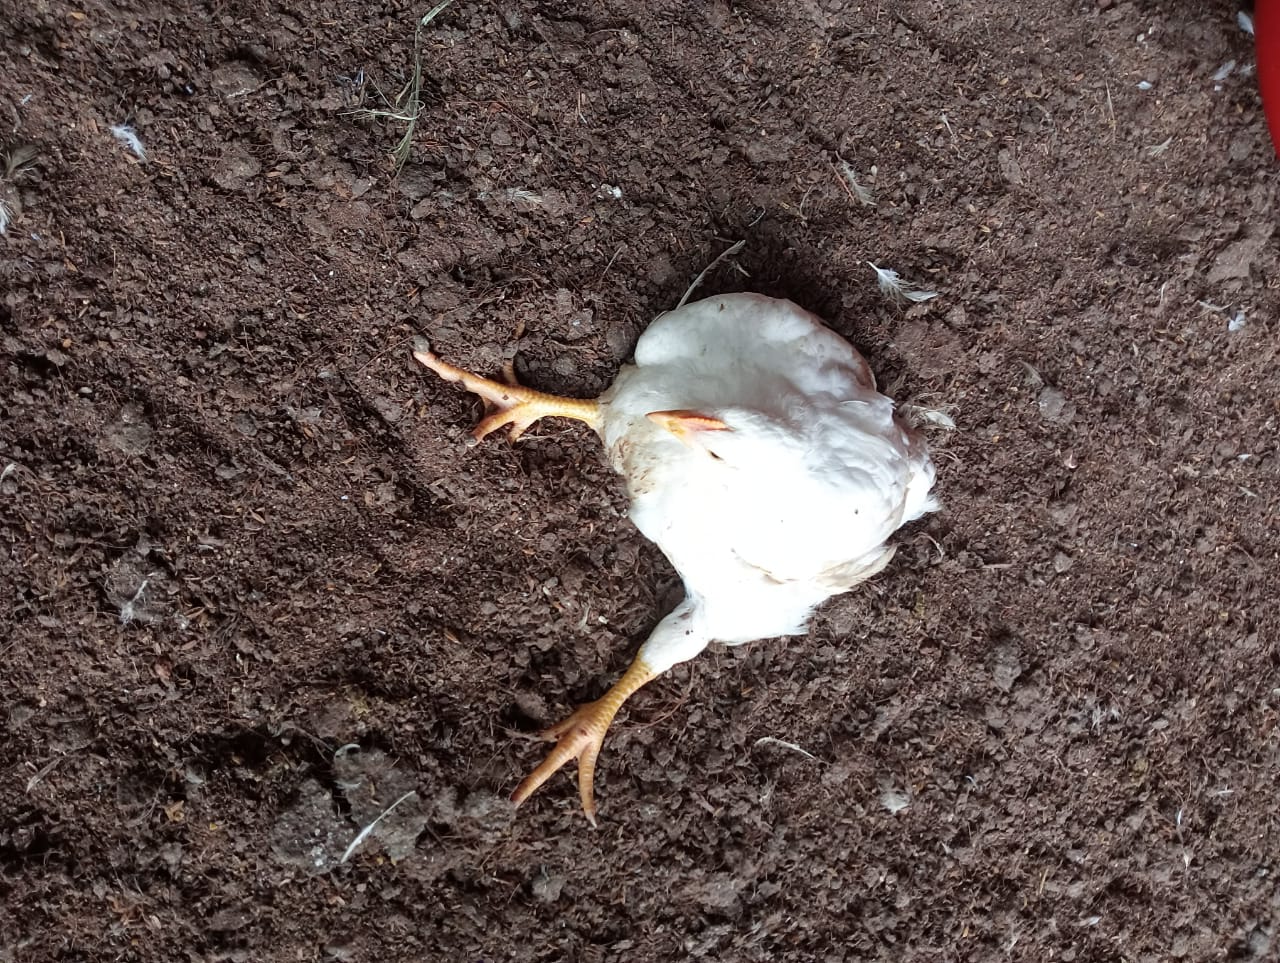Unhealthy: (388, 231, 951, 808)
